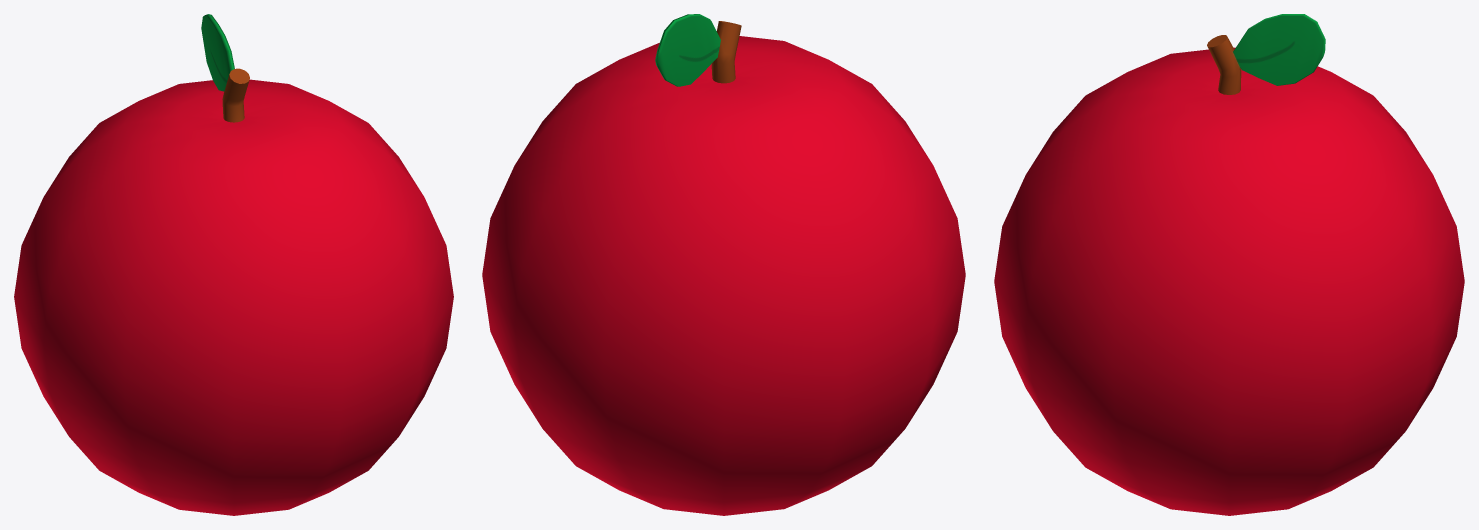
File: Apple.fbx
3 renders of one model, left to right at view 1: azimuth 30°, elevation 25°; view 2: azimuth 150°, elevation 25°; view 3: azimuth 270°, elevation 25°, orthographic. The views are drawn at different scales.
Visible parts, largest first — view 1: pSphere34; view 2: pSphere34; view 3: pSphere34.
Boxes of the visible parts, left/top/right/bottom form: pSphere34: left=14, top=14, right=453, bottom=515; pSphere34: left=482, top=14, right=965, bottom=515; pSphere34: left=994, top=14, right=1464, bottom=515.
Bounding box in the file's own units: 2 × 2.14 × 2.
